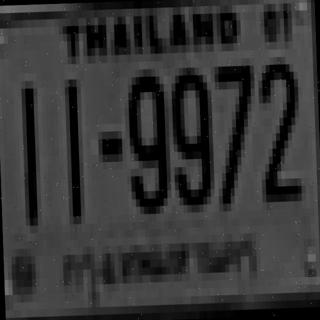N01: (56, 71, 97, 224), (9, 88, 50, 226)
N02: (249, 49, 302, 210)
N07: (206, 58, 254, 196)
N09: (127, 76, 172, 214), (167, 67, 211, 206)
